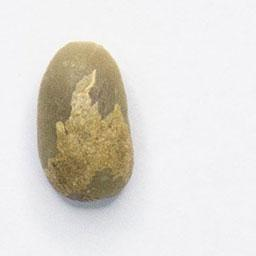longberry: (32, 36, 138, 205)
